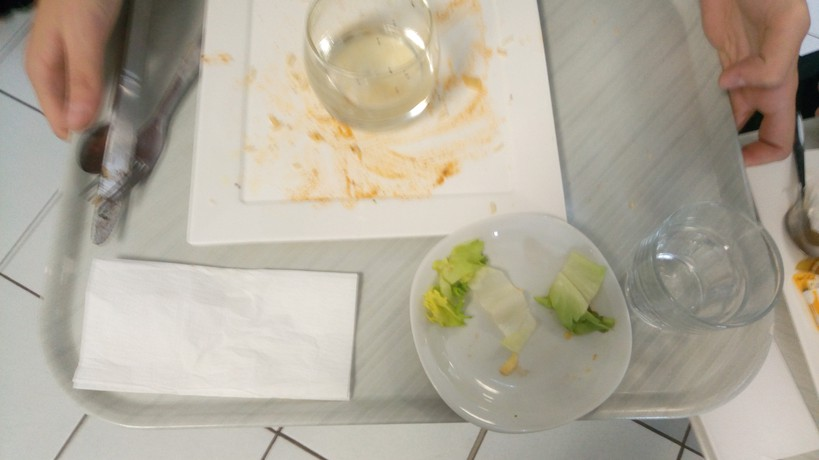cup: (632, 194, 793, 362)
cutlery: (78, 1, 185, 244)
orga: (428, 239, 539, 372), (549, 251, 612, 340)
trash: (85, 262, 357, 397)
